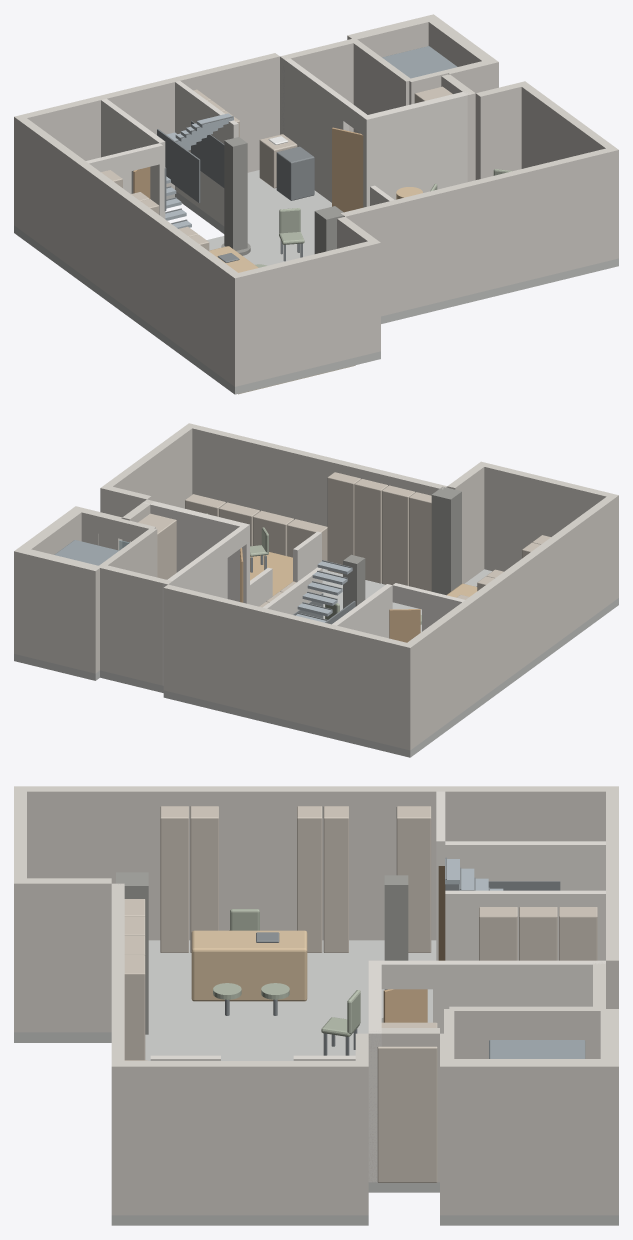
File: basement.glb
3 renders of one model, top to bottom at view 1: azimuth 30°, elevation 25°; view 2: azimuth 150°, elevation 25°; view 3: azimuth 270°, elevation 25°, orthographic. The views are drawn at different scales.
Parts seen in each view (by area): view 1: B1_ExtWall_02_P00, B1_ExtWall_13_P00, B1_ExtWall_00_P00, B1_ExtWall_12_P00, B1_Slab, B1_Storage_South_P00, B1_Storage_West_P01, B1_ExtWall_03_P00, B1_ExtWall_04_P00, B1_Elevator_West, B1_Stair_Laundry_P00, B1_Bath_Stair_P00 (+19 smaller); view 2: B1_ExtWall_12_P00, B1_ExtWall_13_P00, B1_ExtWall_02_P00, B1_ExtWall_00_P00, B1_ExtWall_08_P00, B1_ExtWall_10_P00, B1_Slab, B1_ExtWall_03_P00, B1_Storage_South_P00, B1_Structure_Column_1, B1_ExtWall_01_P00, B1_South_Main_Cabinets_M02 (+29 smaller); view 3: B1_ExtWall_13_P00, B1_ExtWall_03_P00, B1_ExtWall_07_P00, B1_Slab, B1_ExtWall_01_P00, B1_Storage_SE_Cabinet, B1_Storage_West_P01, B1_Tea_Bar, B1_Bath_Stair_P00, B1_Elevator_West, B1_Stair_Laundry_P00, B1_ExtWall_02_P00 (+26 smaller).
Boxes of the visible parts, <box> form: B1_ExtWall_02_P00: <box>341,148,616,316</box>; B1_ExtWall_13_P00: <box>14,117,242,386</box>; B1_ExtWall_00_P00: <box>230,239,380,386</box>; B1_ExtWall_12_P00: <box>14,53,279,189</box>; B1_Slab: <box>14,170,618,394</box>; B1_Storage_South_P00: <box>368,90,475,199</box>; B1_Storage_West_P01: <box>280,55,348,202</box>; B1_ExtWall_03_P00: <box>517,81,618,260</box>; B1_ExtWall_04_P00: <box>475,83,521,179</box>; B1_Elevator_West: <box>351,38,410,133</box>; B1_Stair_Laundry_P00: <box>175,81,238,225</box>; B1_Bath_Stair_P00: <box>101,98,165,218</box>; B1_ExtWall_12_P00: <box>167,584,414,749</box>; B1_ExtWall_13_P00: <box>402,495,618,750</box>; B1_ExtWall_02_P00: <box>185,423,447,526</box>; B1_ExtWall_00_P00: <box>477,461,618,597</box>; B1_ExtWall_08_P00: <box>14,548,99,673</box>; B1_ExtWall_10_P00: <box>100,565,172,685</box>; B1_Slab: <box>14,568,618,757</box>; B1_ExtWall_03_P00: <box>100,423,195,512</box>; B1_Storage_South_P00: <box>143,501,244,601</box>; B1_Structure_Column_1: <box>431,486,461,594</box>; B1_ExtWall_01_P00: <box>447,462,486,583</box>; B1_South_Main_Cabinets_M02: <box>382,485,415,585</box>; B1_ExtWall_13_P00: <box>14,786,618,940</box>; B1_ExtWall_03_P00: <box>111,1061,368,1215</box>; B1_ExtWall_07_P00: <box>440,1061,618,1215</box>; B1_Slab: <box>14,940,618,1225</box>; B1_ExtWall_01_P00: <box>14,878,111,1032</box>; B1_Storage_SE_Cabinet: <box>377,1022,437,1182</box>; B1_Storage_West_P01: <box>433,960,605,1033</box>; B1_Tea_Bar: <box>191,930,307,1001</box>; B1_Bath_Stair_P00: <box>445,841,605,890</box>; B1_Elevator_West: <box>449,1006,605,1058</box>; B1_Stair_Laundry_P00: <box>445,890,605,960</box>; B1_ExtWall_02_P00: <box>111,883,124,1215</box>.
Bounding box in the file's own units: 10.2 × 3.02 × 9.3.
